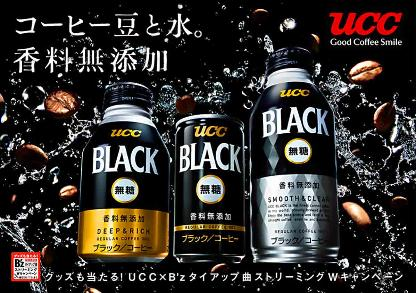Can: (174, 114, 245, 262)
Plastic Bottle: (250, 47, 340, 262), (80, 83, 170, 264)
